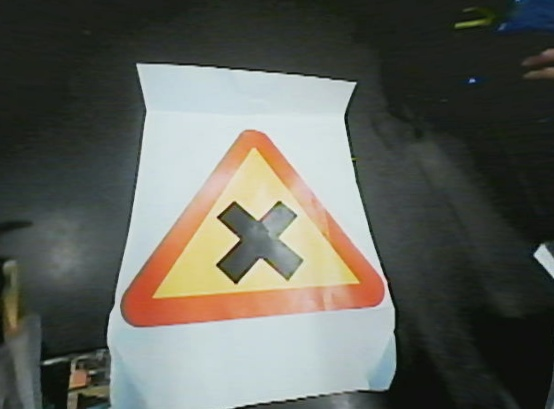junction: (109, 125, 405, 326)
